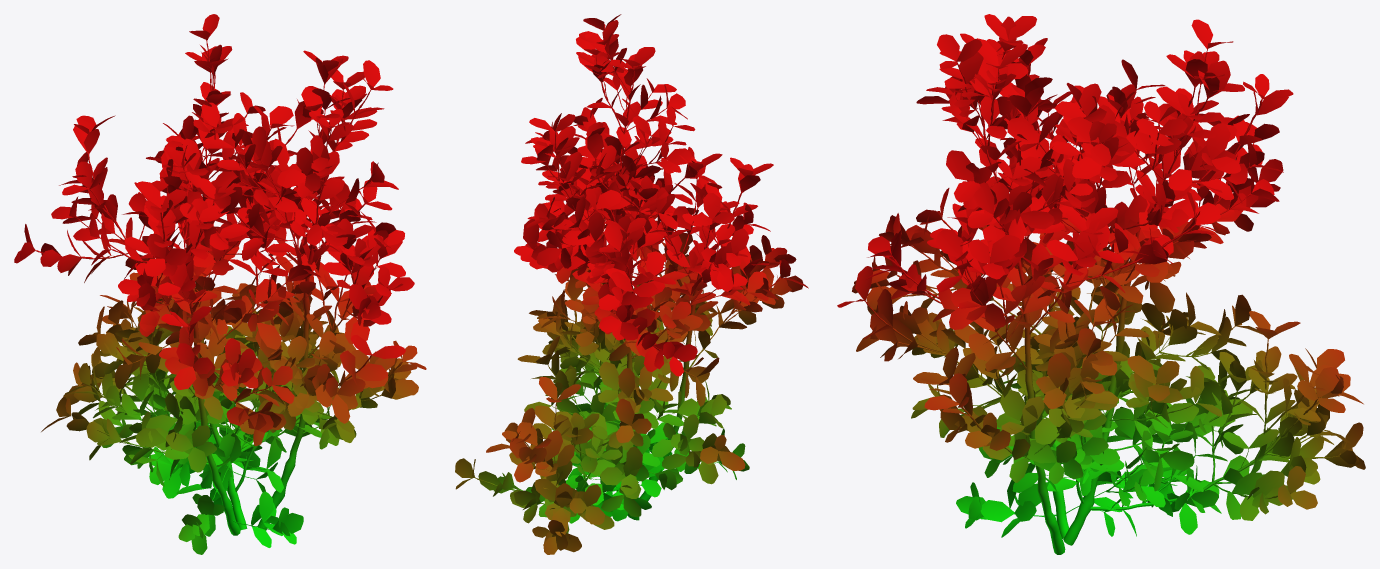
The model's file is Var9_LOD1.fbx.
3 renders of one model, left to right at view 1: azimuth 30°, elevation 25°; view 2: azimuth 150°, elevation 25°; view 3: azimuth 270°, elevation 25°, orthographic. The views are drawn at different scales.
Visible parts, largest first — view 1: _f9u1_Var9_LOD1; view 2: _f9u1_Var9_LOD1; view 3: _f9u1_Var9_LOD1.
Part boxes in pixels (box(x1,y1,x2,y2)): _f9u1_Var9_LOD1: box(14, 14, 426, 554); _f9u1_Var9_LOD1: box(455, 14, 808, 554); _f9u1_Var9_LOD1: box(837, 14, 1365, 554).
Bounding box in the file's own units: 30.32 × 46.69 × 39.99.
